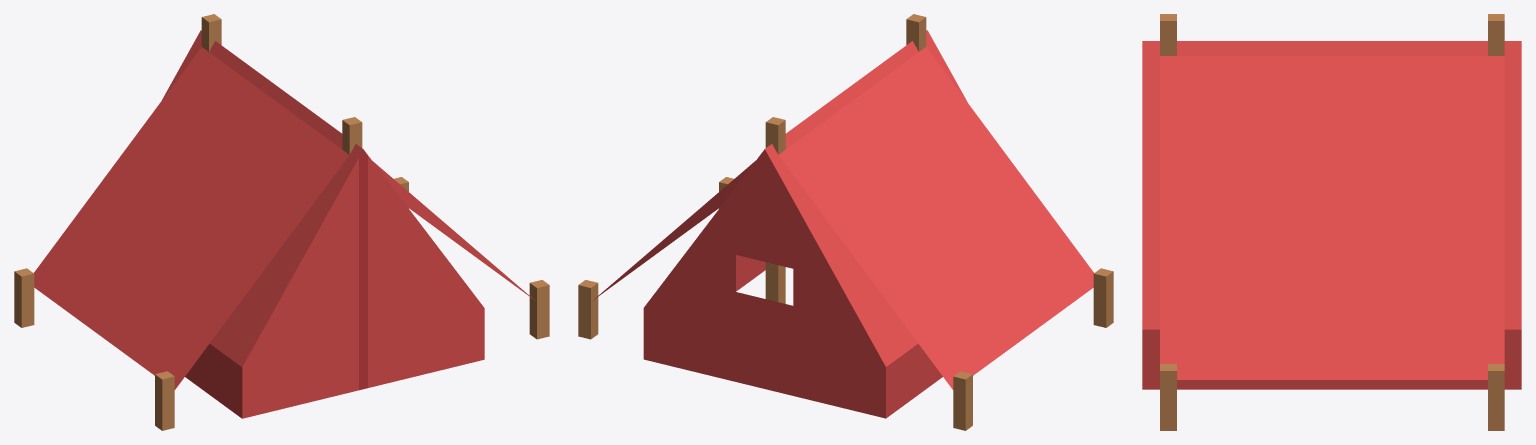
File: tent-closed.glb
The picture shows the model from 3 angles, left to right: view 1: azimuth 30°, elevation 25°; view 2: azimuth 150°, elevation 25°; view 3: azimuth 270°, elevation 25°; orthographic projection. The views are drawn at different scales.
Parts seen in each view (by area): view 1: tent_detailedClosed; view 2: tent_detailedClosed; view 3: tent_detailedClosed.
Boxes of the visible parts, bbox=[...] form: tent_detailedClosed: bbox=[14, 14, 549, 430]; tent_detailedClosed: bbox=[578, 14, 1113, 430]; tent_detailedClosed: bbox=[1142, 14, 1521, 430].
Bounding box in the file's own units: 4.37 × 2.81 × 3.18.
